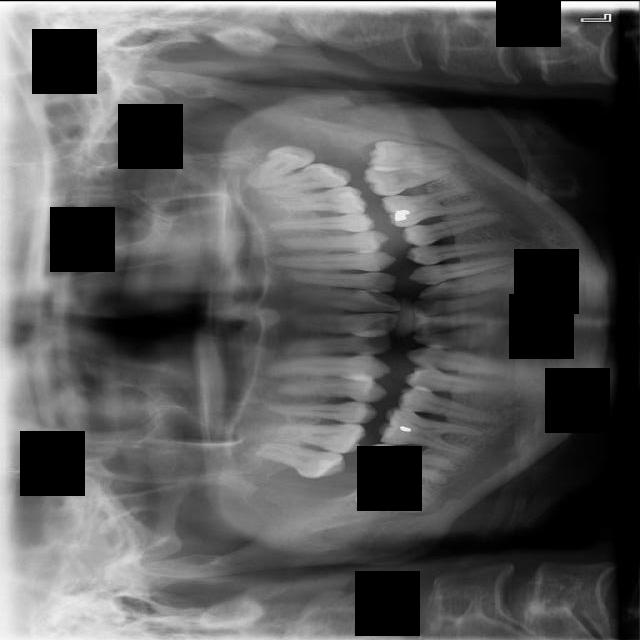52: (372, 399, 430, 457), (378, 182, 430, 233), (294, 446, 348, 480), (359, 441, 410, 476), (320, 185, 367, 214)
73: (530, 42, 539, 46)
BioHorizons Implant: (246, 157, 353, 201)
BioLife Implant: (240, 133, 318, 191)
Biomet 3i Implant: (366, 139, 461, 176)
Blue Sky Bio Implant: (362, 161, 455, 197)
Caries: (243, 437, 348, 483)
Implant: (360, 441, 460, 484)
Keystone Dental Implant: (352, 470, 447, 515)
